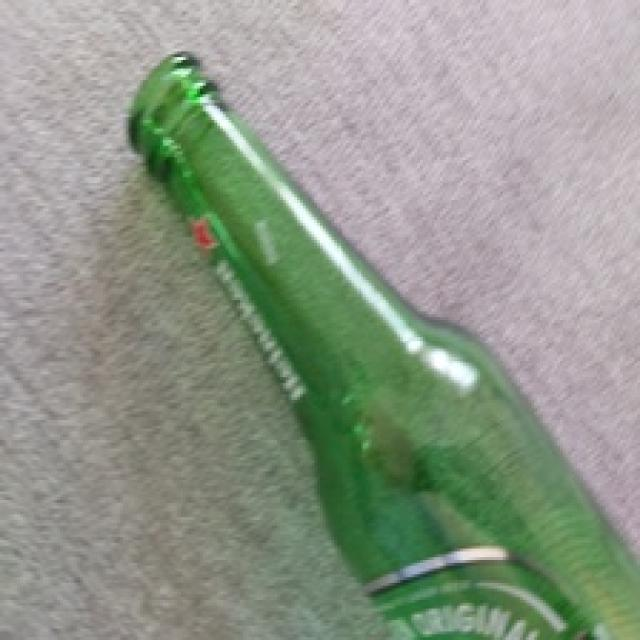Glass: (126, 50, 640, 640)
